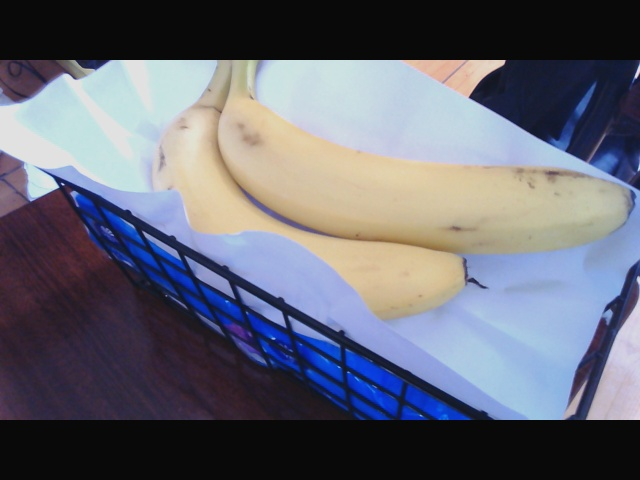banana: (162, 79, 634, 289)
